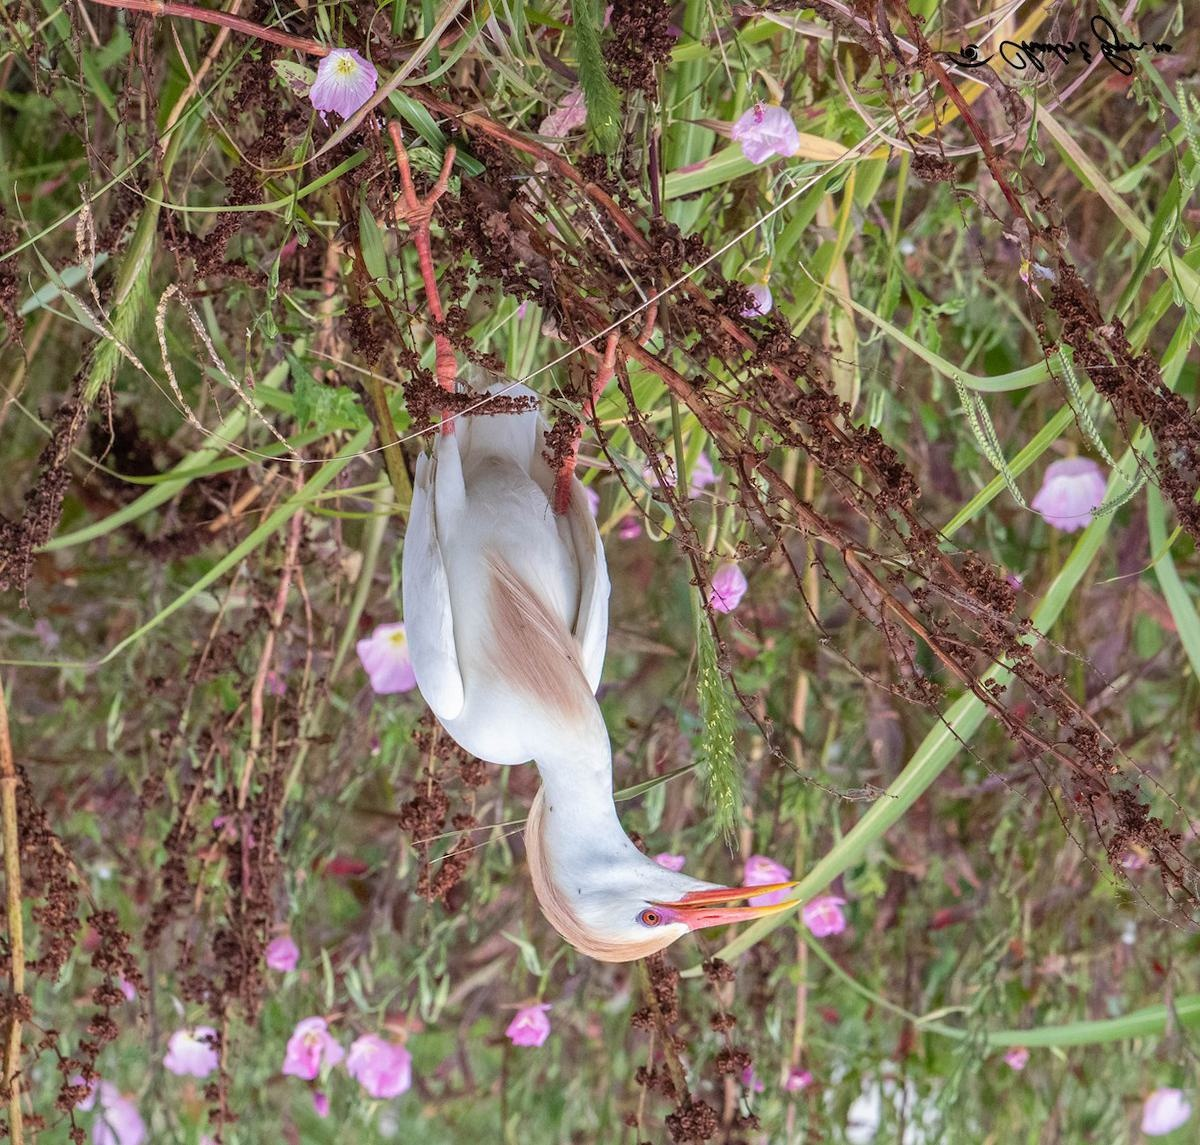egret: (357, 404, 819, 967)
